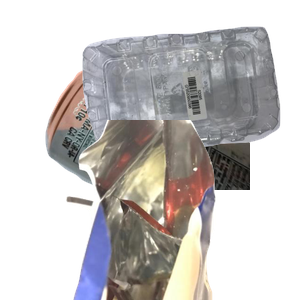glass: (93, 143, 284, 300)
metal: (43, 58, 283, 238)
plastic: (80, 24, 300, 172)
trash: (63, 120, 300, 300)
